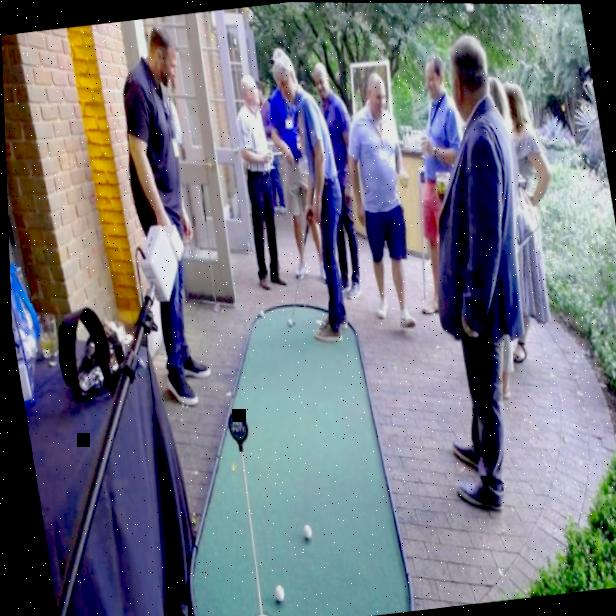GolfBall: (264, 574, 284, 605), (294, 517, 312, 542), (252, 305, 266, 321), (281, 315, 294, 329)
